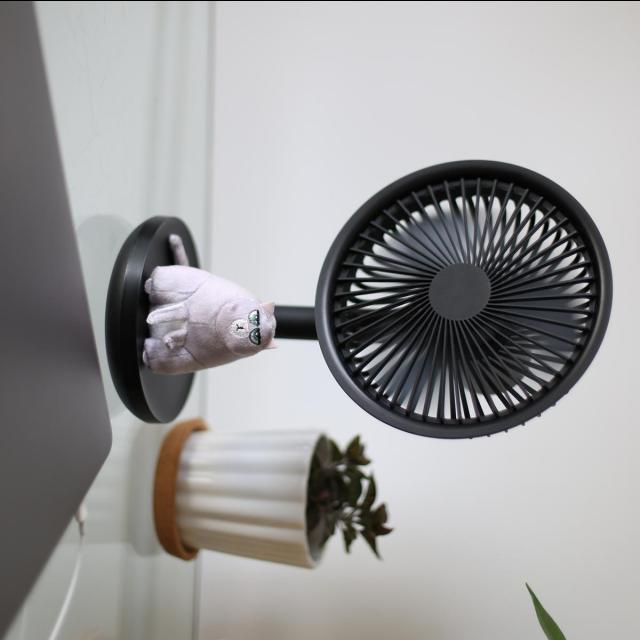fan: (102, 150, 610, 439)
